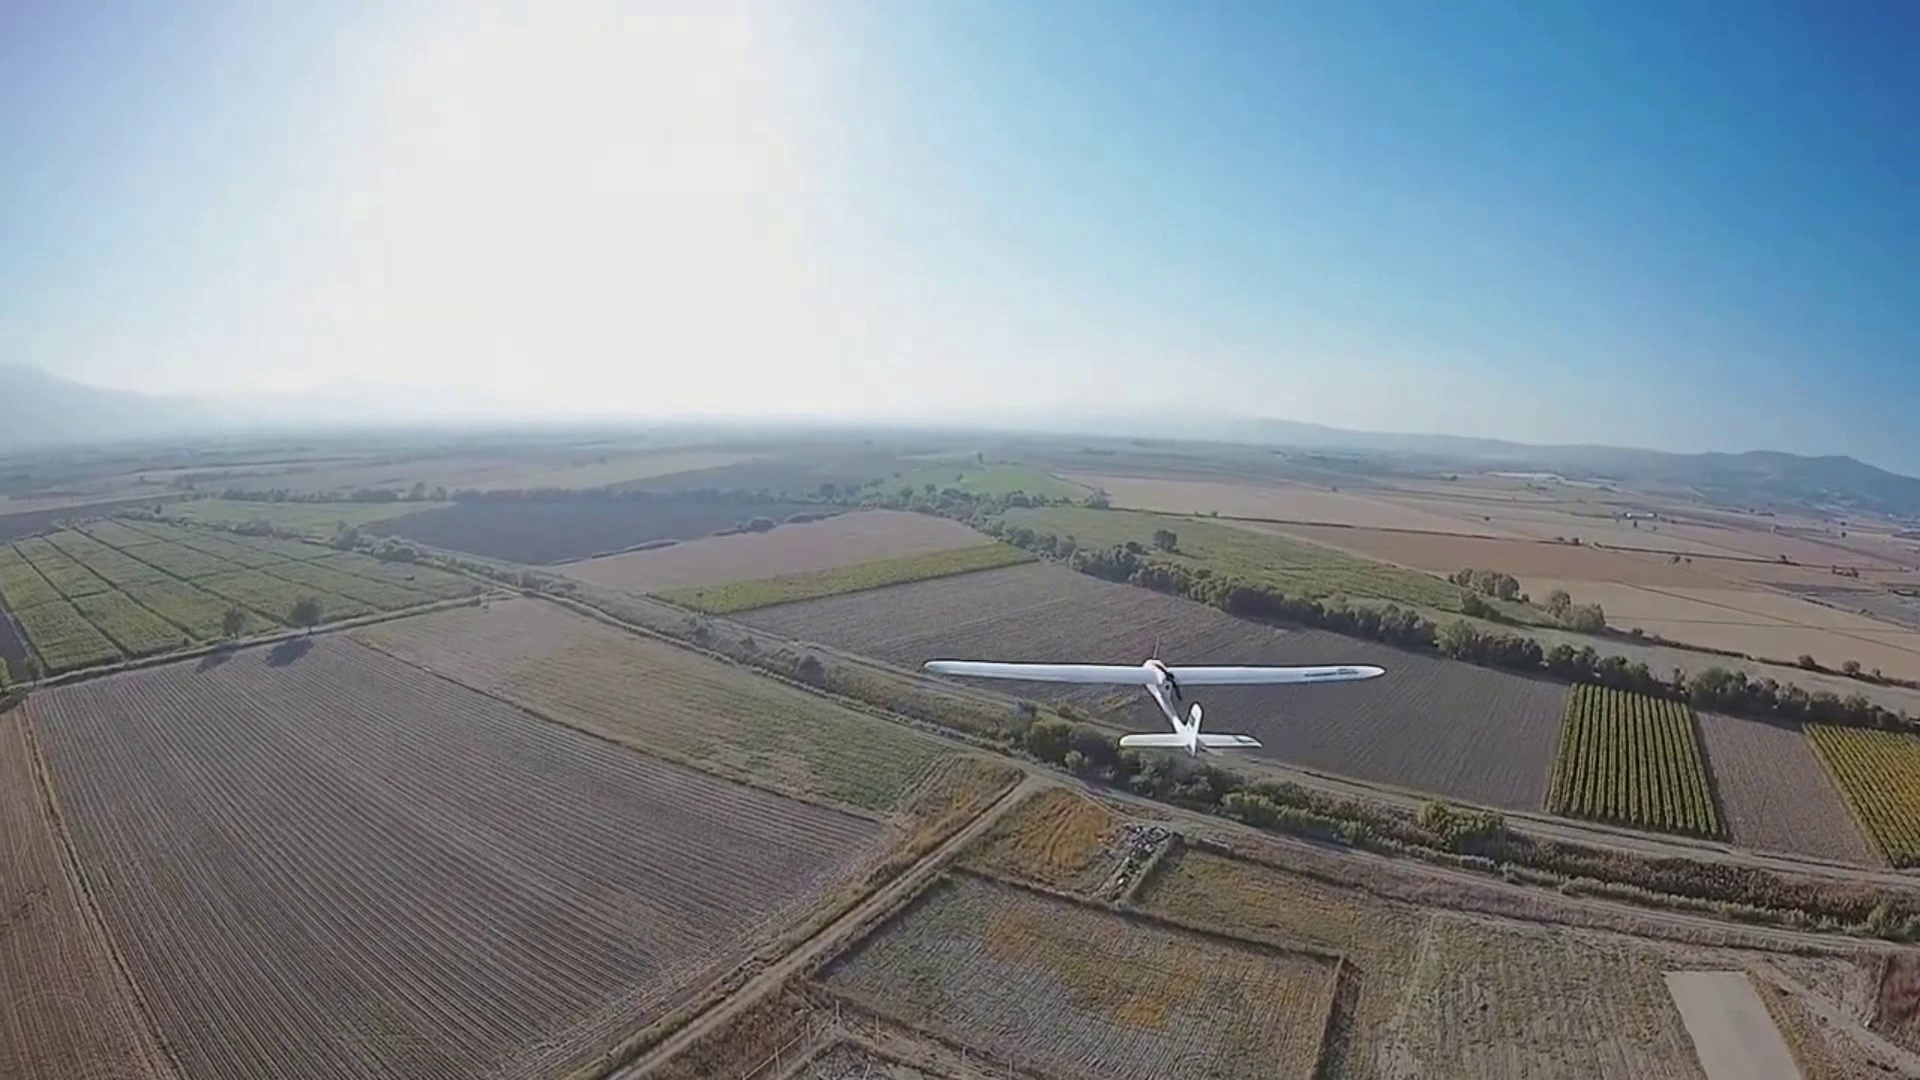airplane: (920, 651, 1389, 770)
